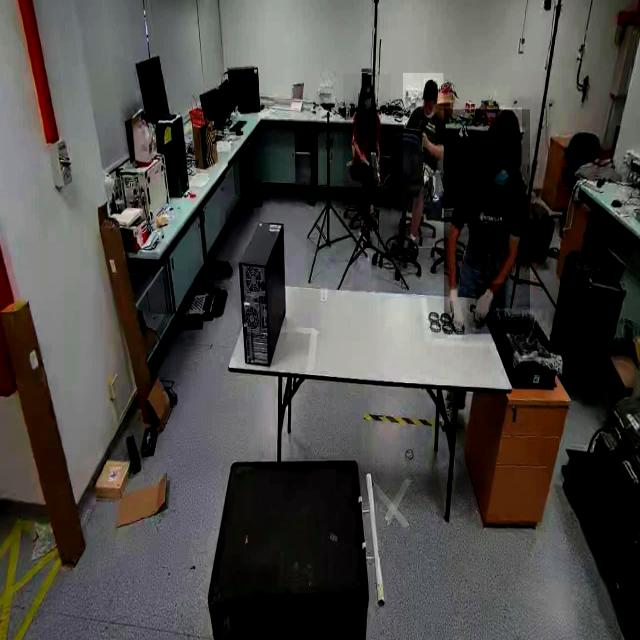face_mask: (488, 159, 516, 195), (358, 93, 376, 119)
hand_glove: (475, 284, 505, 334), (447, 286, 467, 339)
hand_noglove: (421, 127, 429, 148)
head_nohelmet: (488, 107, 522, 145), (423, 78, 439, 95), (361, 76, 375, 92)
person: (444, 109, 530, 335), (343, 74, 391, 239), (402, 73, 443, 249)
